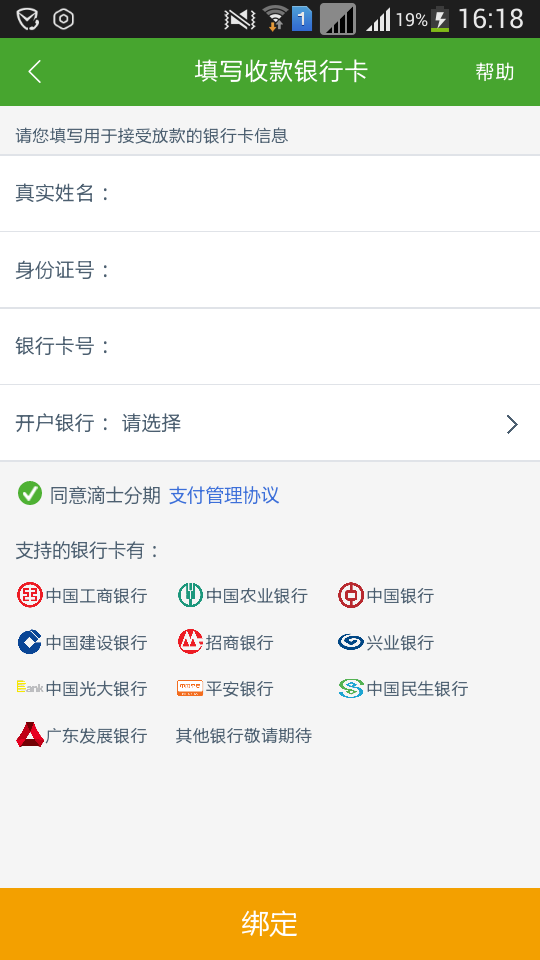button: (1, 877, 540, 960)
checkbox: (14, 471, 294, 522)
textview: (3, 110, 535, 464), (12, 534, 518, 760)
